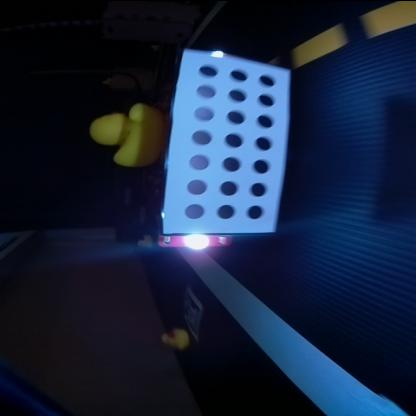Duckie: (91, 105, 162, 164), (161, 329, 187, 345), (138, 235, 152, 246)
Duckiebot: (132, 48, 290, 248)
QR code: (183, 284, 202, 336)
